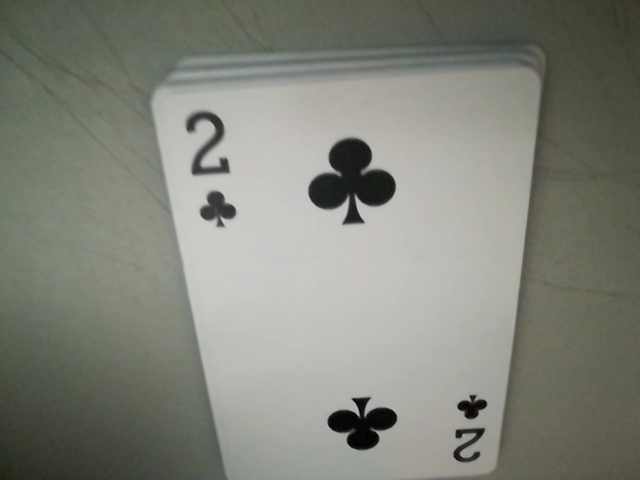mh 2: (166, 95, 244, 234), (447, 388, 496, 471)
